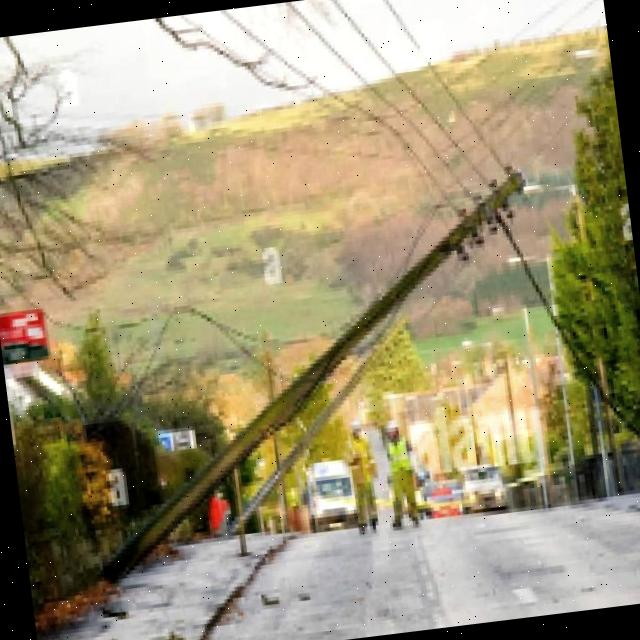Broken Pole: (105, 159, 535, 586)
